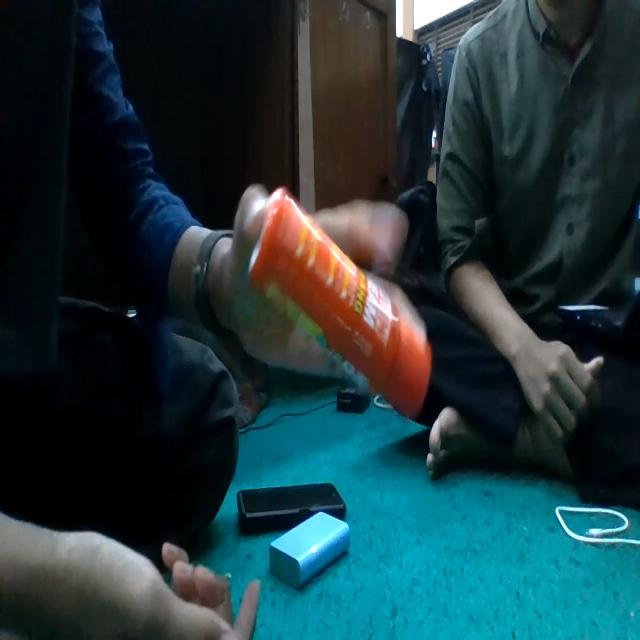Boncabe: (249, 188, 430, 418)
Powerbank: (270, 512, 350, 588)
